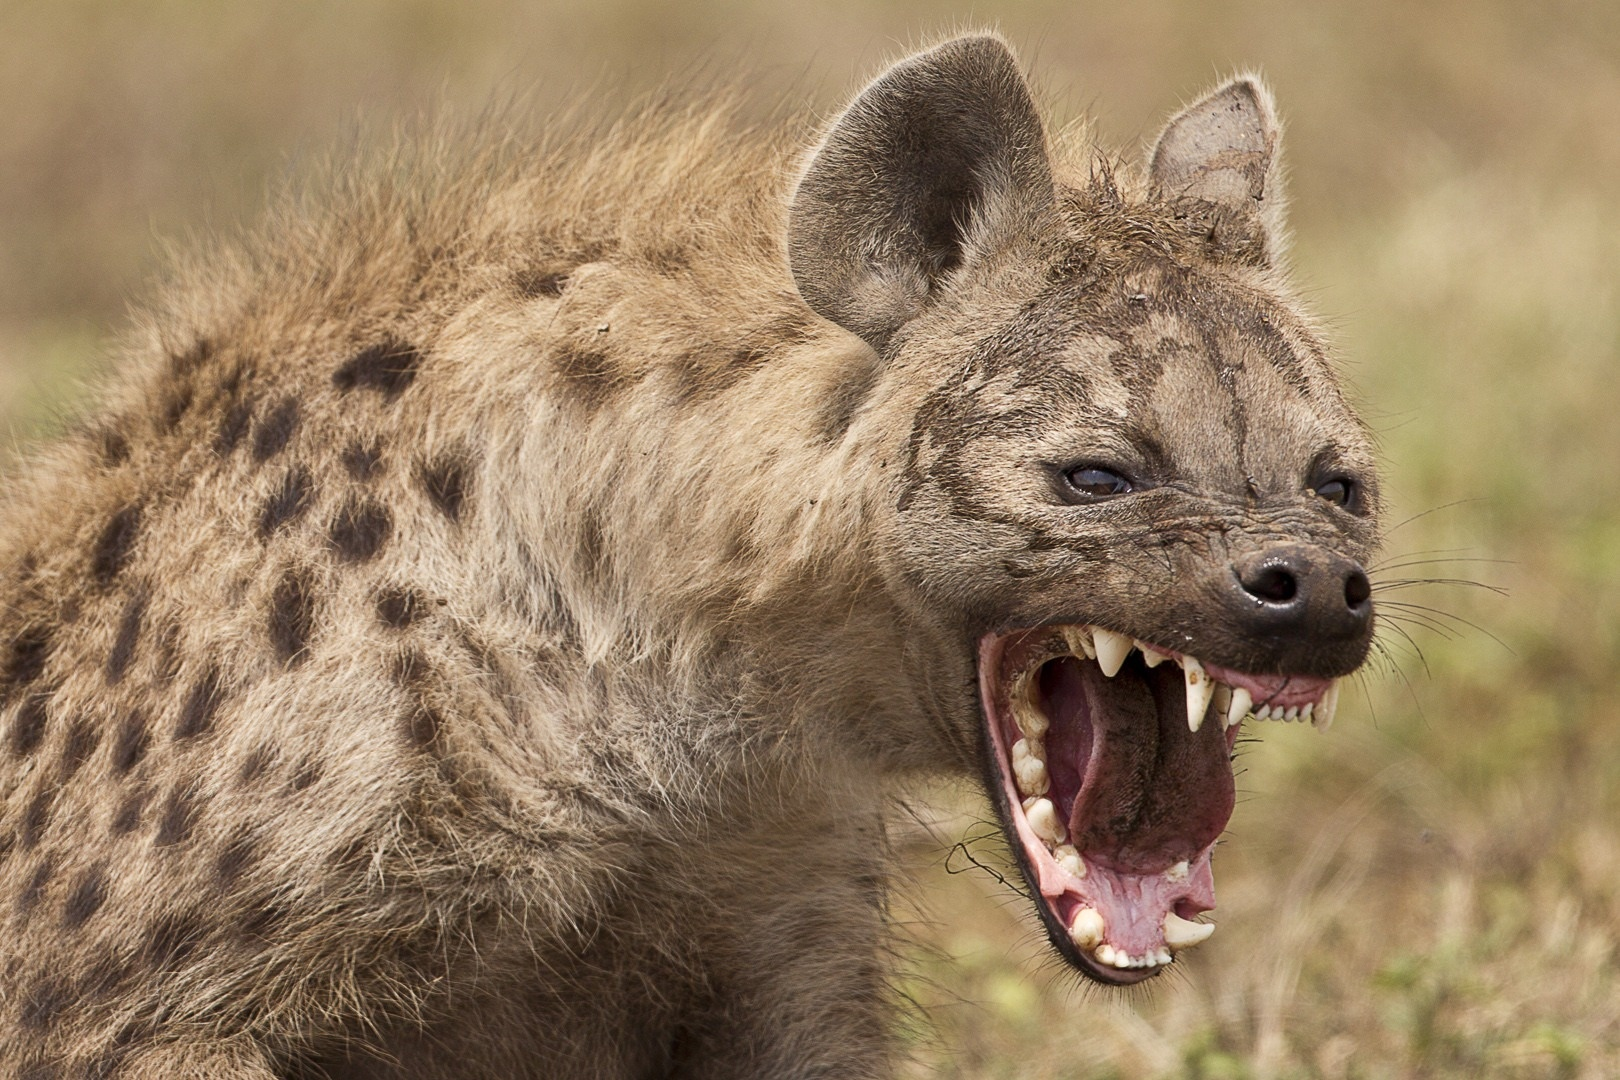hyna: (1, 12, 1522, 1078)
